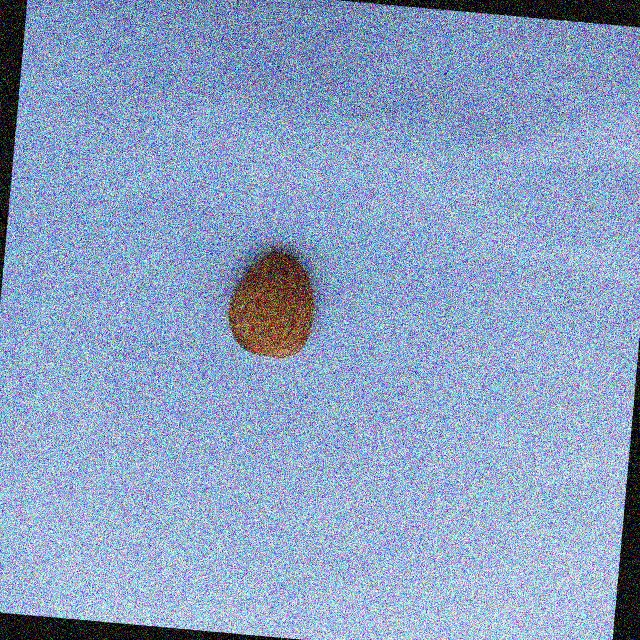grade1: (218, 238, 330, 368)
